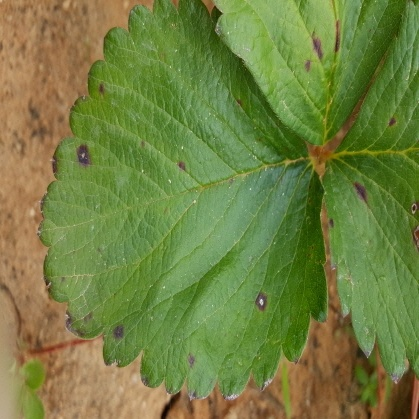Leaf_Spot: (0, 1, 330, 386), (90, 0, 382, 402), (9, 0, 322, 147)
